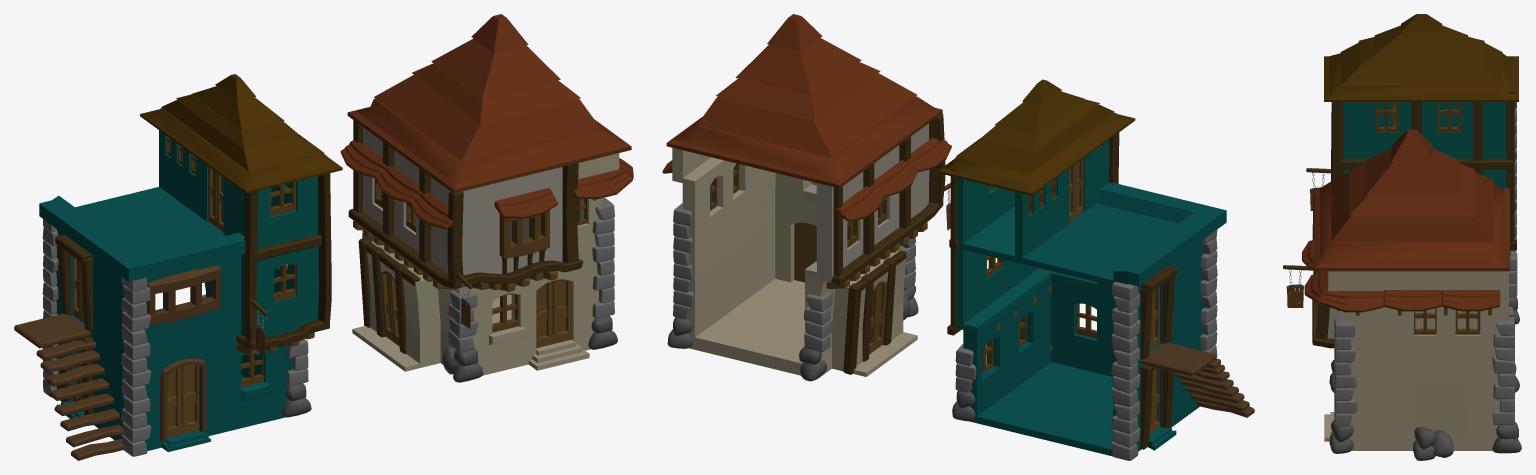
The model's file is World4.fbx.
3 views of the same model, side by side, from view 1: azimuth 30°, elevation 25°; view 2: azimuth 150°, elevation 25°; view 3: azimuth 270°, elevation 25° (orthographic). The views are drawn at different scales.
Parts seen in each view (by area): view 1: pCube472, pCube64, pCube1, pCube480, pCube10, pCube430, pCube420, pCube20, pCube414, pCube15, pCube413, pCube19 (+21 smaller); view 2: pCube472, pCube1, pCube64, pCube480, pCube10, pCube430, pCube413, pCube55, pCube20, pCube62, pCube60, pCube61 (+8 smaller); view 3: pCube1, pCube64, pCube480, pCube472, pCube430, pCube28, pCube399, pCube400, pCube10, pCube486, pCube27, pCube475 (+21 smaller).
Part boxes in pixels (x1,y1,x2,y2): pCube472: [39, 130, 318, 451]; pCube64: [347, 14, 631, 193]; pCube1: [352, 127, 619, 375]; pCube480: [140, 74, 342, 193]; pCube10: [348, 120, 583, 289]; pCube430: [236, 173, 331, 350]; pCube420: [147, 265, 220, 325]; pCube20: [536, 279, 571, 347]; pCube414: [167, 365, 199, 437]; pCube15: [499, 210, 549, 258]; pCube413: [14, 313, 91, 348]; pCube19: [494, 188, 557, 218]; pCube472: [956, 139, 1226, 456]; pCube1: [672, 123, 929, 379]; pCube64: [666, 14, 942, 188]; pCube480: [938, 79, 1135, 195]; pCube10: [831, 113, 945, 285]; pCube430: [947, 132, 1119, 335]; pCube413: [1141, 342, 1216, 376]; pCube55: [843, 283, 861, 374]; pCube20: [794, 222, 816, 282]; pCube62: [834, 185, 883, 222]; pCube60: [873, 160, 917, 197]; pCube61: [907, 137, 951, 172]; pCube1: [1324, 271, 1508, 450]; pCube64: [1314, 129, 1509, 271]; pCube480: [1324, 14, 1518, 101]; pCube472: [1343, 102, 1510, 256]; pCube430: [1331, 90, 1516, 249]; pCube28: [1320, 291, 1383, 312]; pCube399: [1383, 290, 1441, 311]; pCube400: [1442, 290, 1500, 311]; pCube10: [1312, 192, 1334, 348]; pCube486: [1344, 158, 1513, 169]; pCube27: [1304, 271, 1328, 303]; pCube475: [1437, 102, 1461, 132].
Size of the model in its own units: 158 by 88.58 by 65.05.
